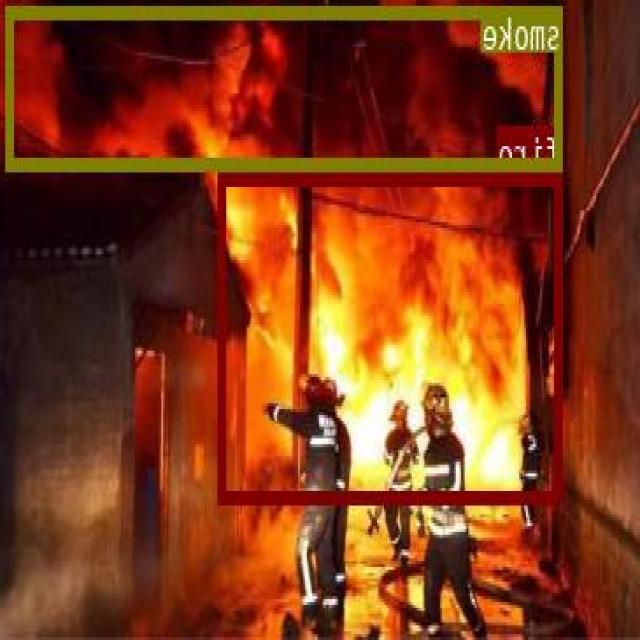fire: (221, 171, 564, 502)
smoke: (8, 5, 564, 168)
